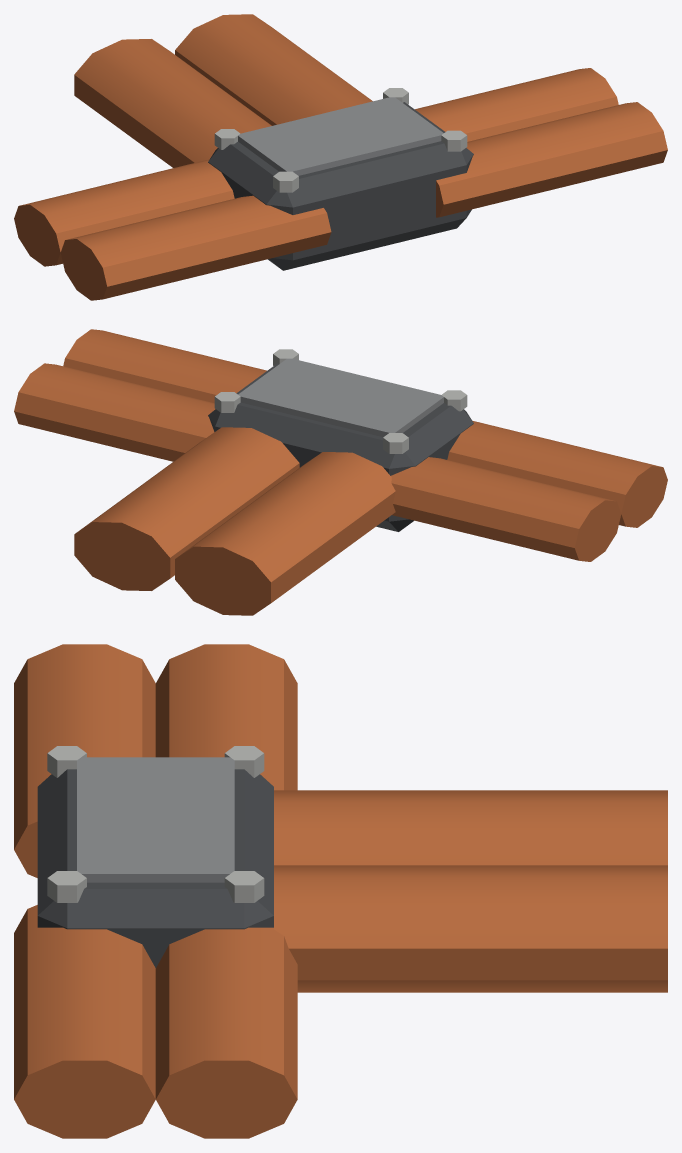
Rendered from heat-pipe-t-up.glb.
3 views of the same model, one above another, from view 1: azimuth 30°, elevation 25°; view 2: azimuth 150°, elevation 25°; view 3: azimuth 270°, elevation 25° (orthographic). The views are drawn at different scales.
Visible parts, largest first — view 1: body; view 2: body; view 3: body.
Boxes of the visible parts, x1,y1,x2,y2 form: body: (14,14,667,300); body: (14,329,667,615); body: (14,644,667,1138).
Size of the model in its own units: 1 by 0.16 by 0.664.
